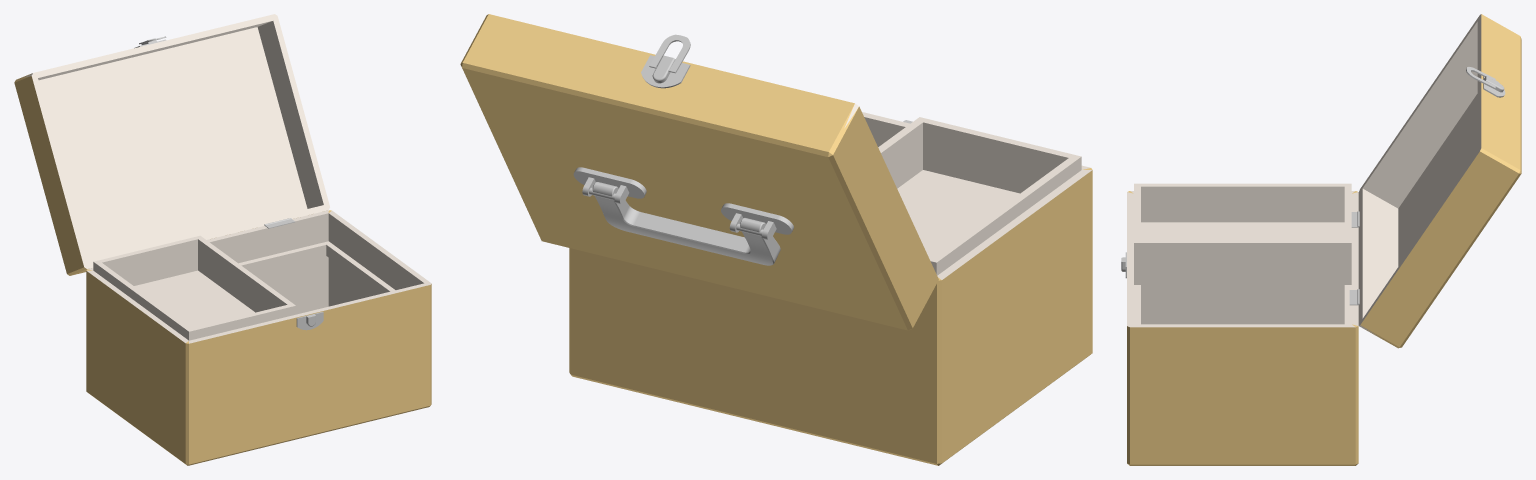
Rendered from 905_first_aid_kit_open.glb.
3 renders of one model, left to right at view 1: azimuth 30°, elevation 25°; view 2: azimuth 150°, elevation 25°; view 3: azimuth 270°, elevation 25°, orthographic. The views are drawn at different scales.
Parts seen in each view (by area): view 1: Body, huta, tray; view 2: huta, Body, tray, totte, kanagu; view 3: Body, huta, tray.
Part boxes in pixels (x1,y1,x2,y2): Body: (86, 210, 431, 465); huta: (14, 14, 329, 275); tray: (93, 235, 295, 340); huta: (460, 14, 938, 330); Body: (569, 112, 1092, 465); tray: (878, 117, 1081, 275); totte: (592, 182, 780, 265); kanagu: (649, 34, 690, 73); Body: (1121, 191, 1359, 465); huta: (1358, 14, 1521, 348); tray: (1134, 183, 1351, 284).
Size of the model in its own units: 0.23 by 0.2594 by 0.2851.
